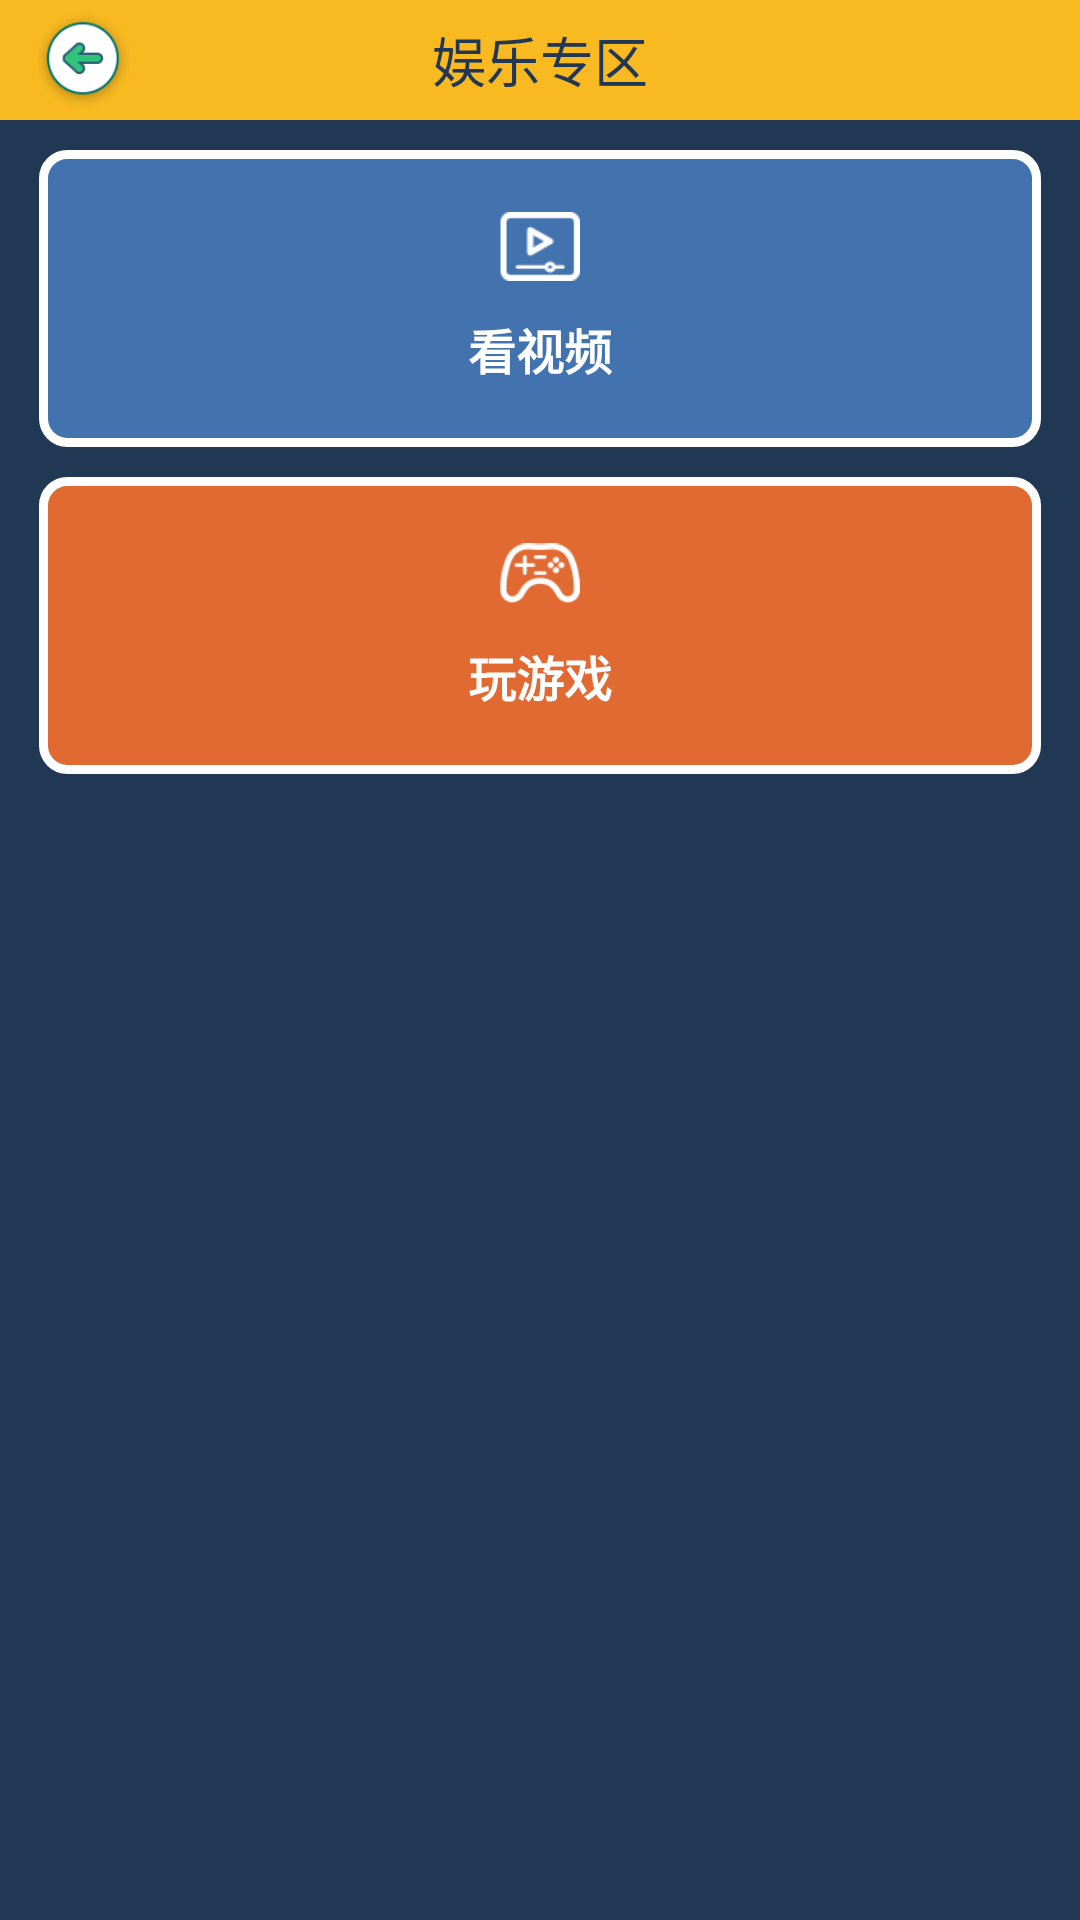

Locate icon controls on the screen. Image size 1080w x 1920h, boxes as [left=x1, top=y1, right=x2, bottom=y2].
back: [left=45, top=22, right=121, bottom=99]
